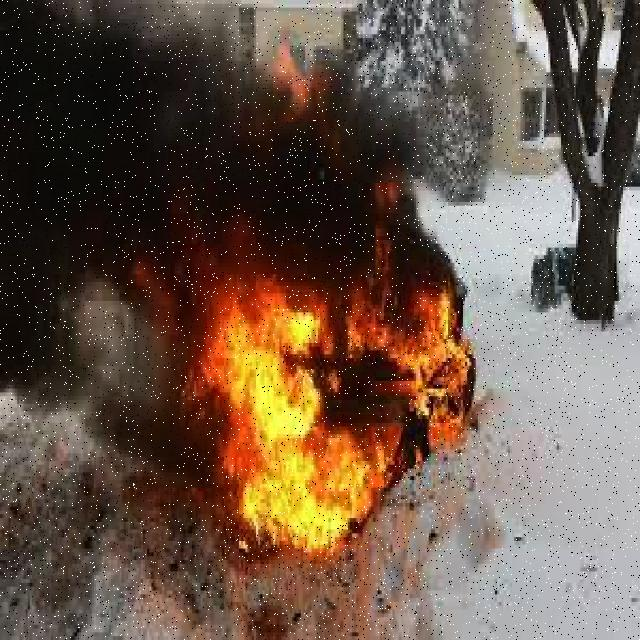fire: (196, 298, 398, 568)
smoke: (6, 6, 428, 278)
